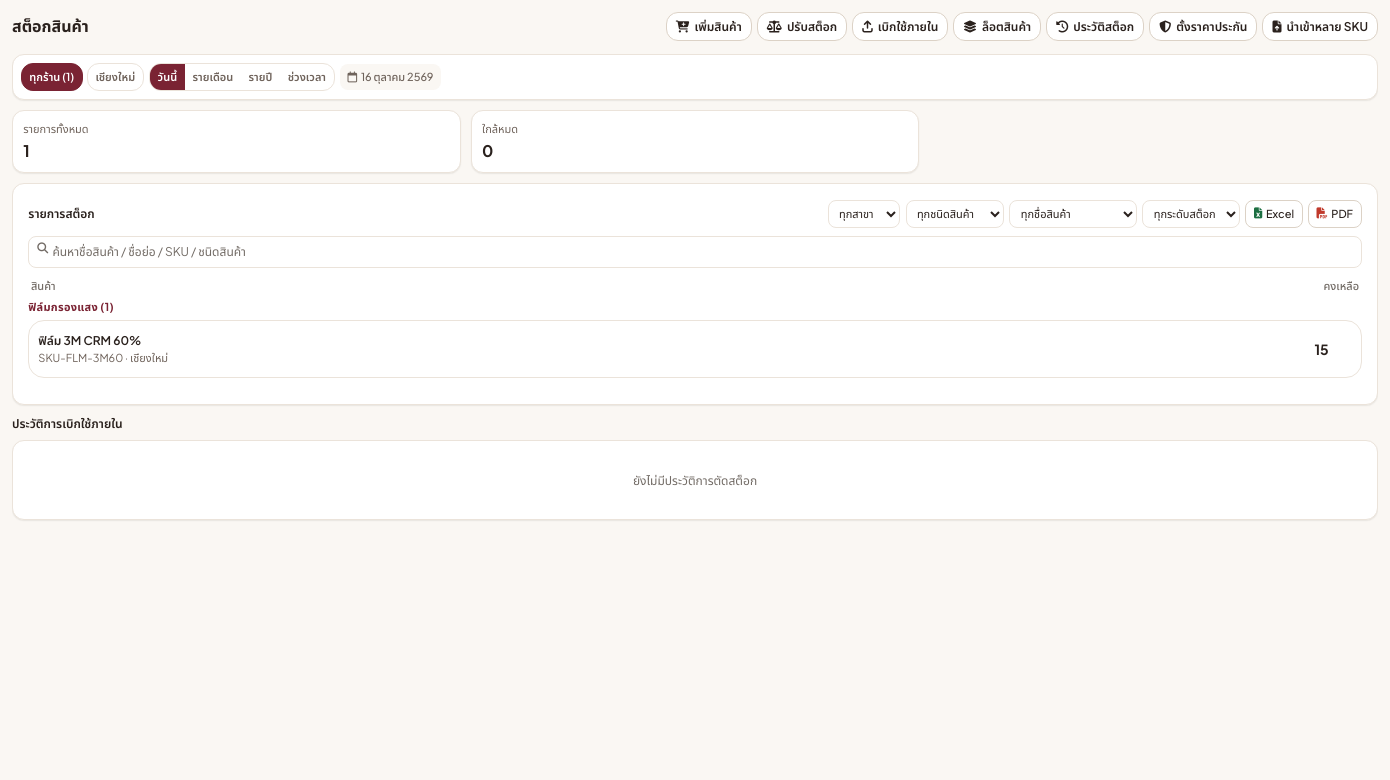
it: StockModule — ประวัติสต็อก › narrows to one kind of movement
Click the button "ประวัติสต็อก" at (1095, 27), box [1046,12,1144,41]
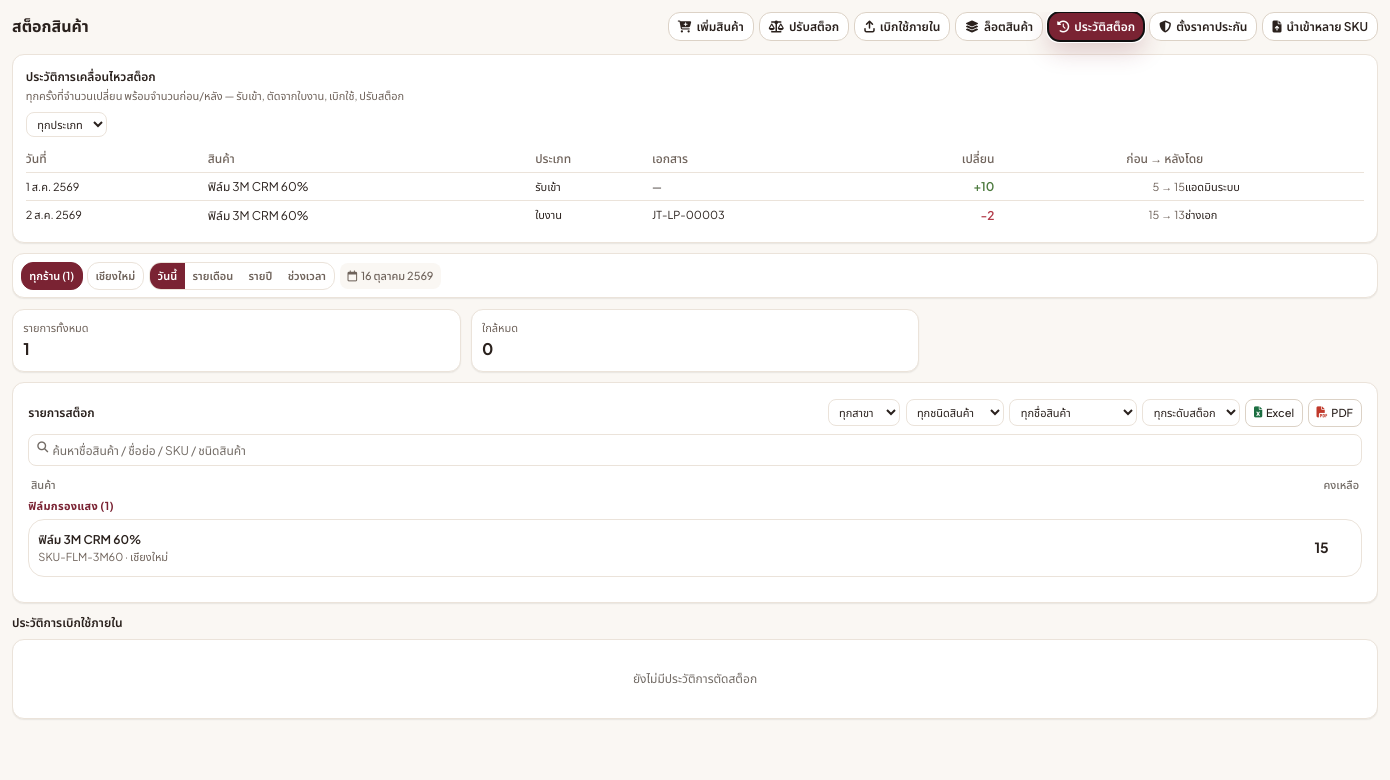
Select "รับเข้า" in the dropdown named "กรองตามประเภทการเคลื่อนไหว" at (66, 125), box [26,112,107,137]
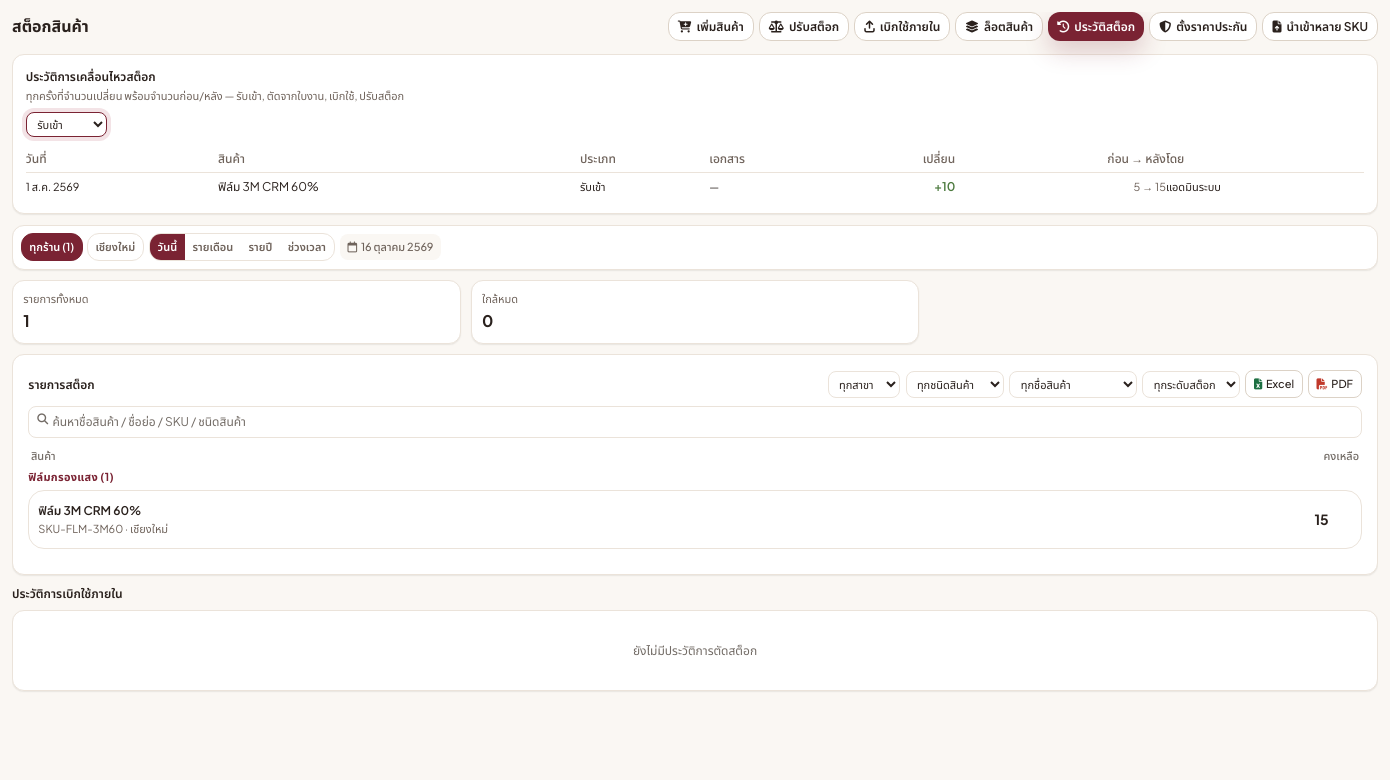
Now the text "+10" is shown, box [838,173,955,200]
Now the text "JT-LP-00003" is gone
